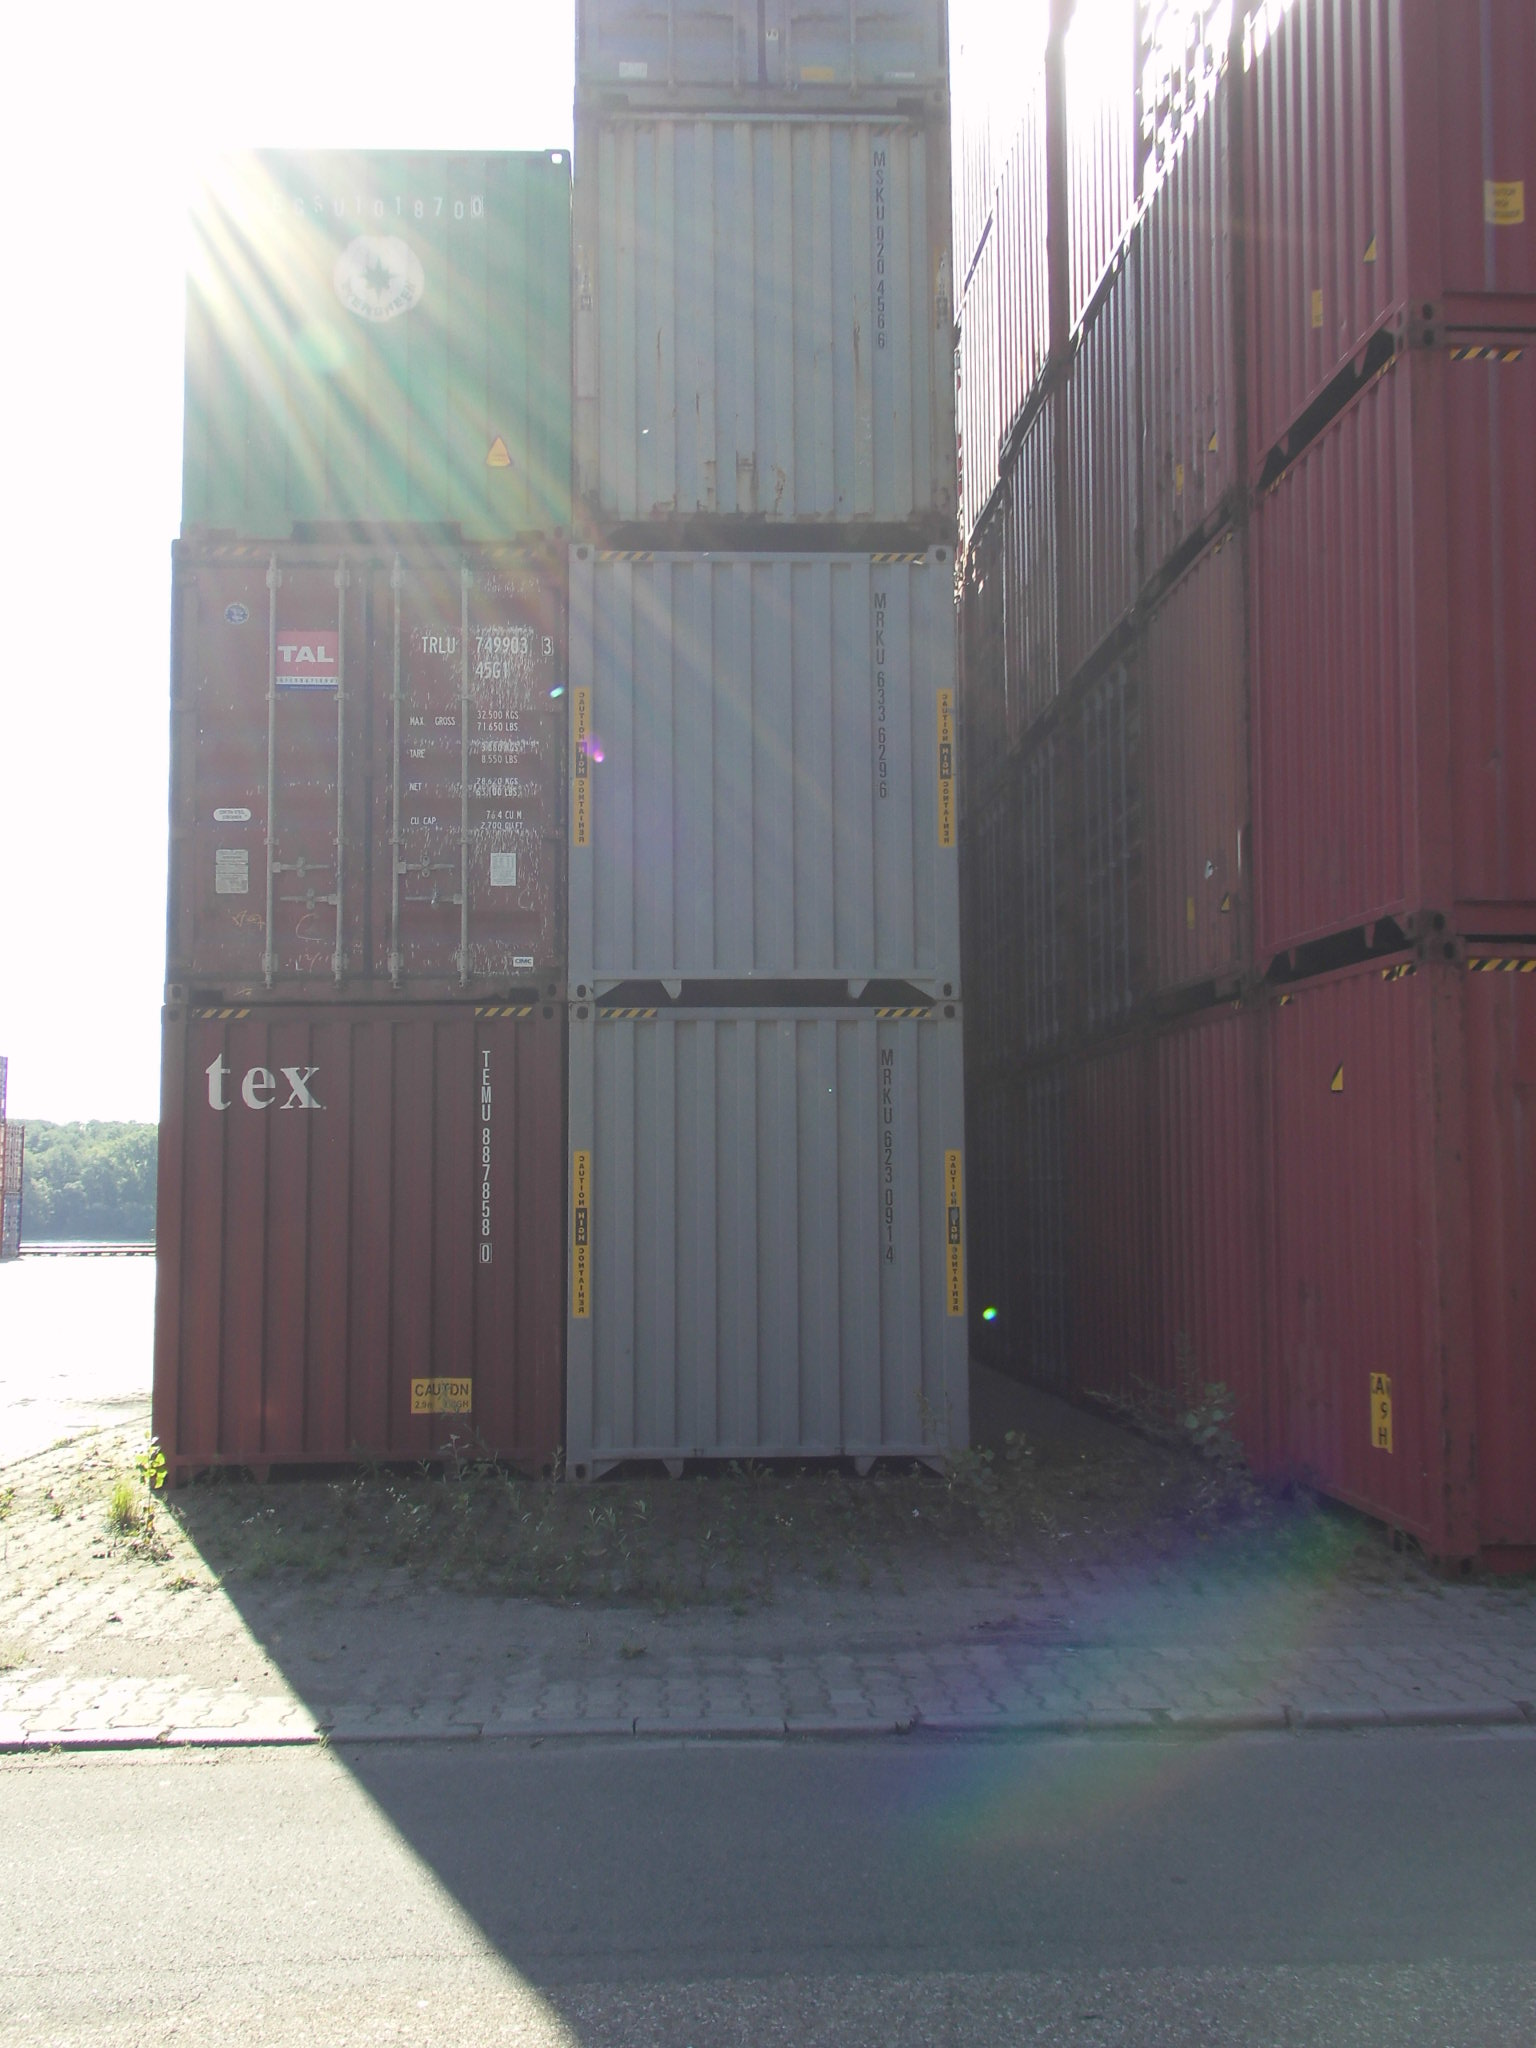container_door: (165, 543, 578, 1003)
container_no_door: (576, 542, 950, 997), (584, 1006, 958, 1459), (173, 1006, 545, 1461), (581, 113, 936, 540)
